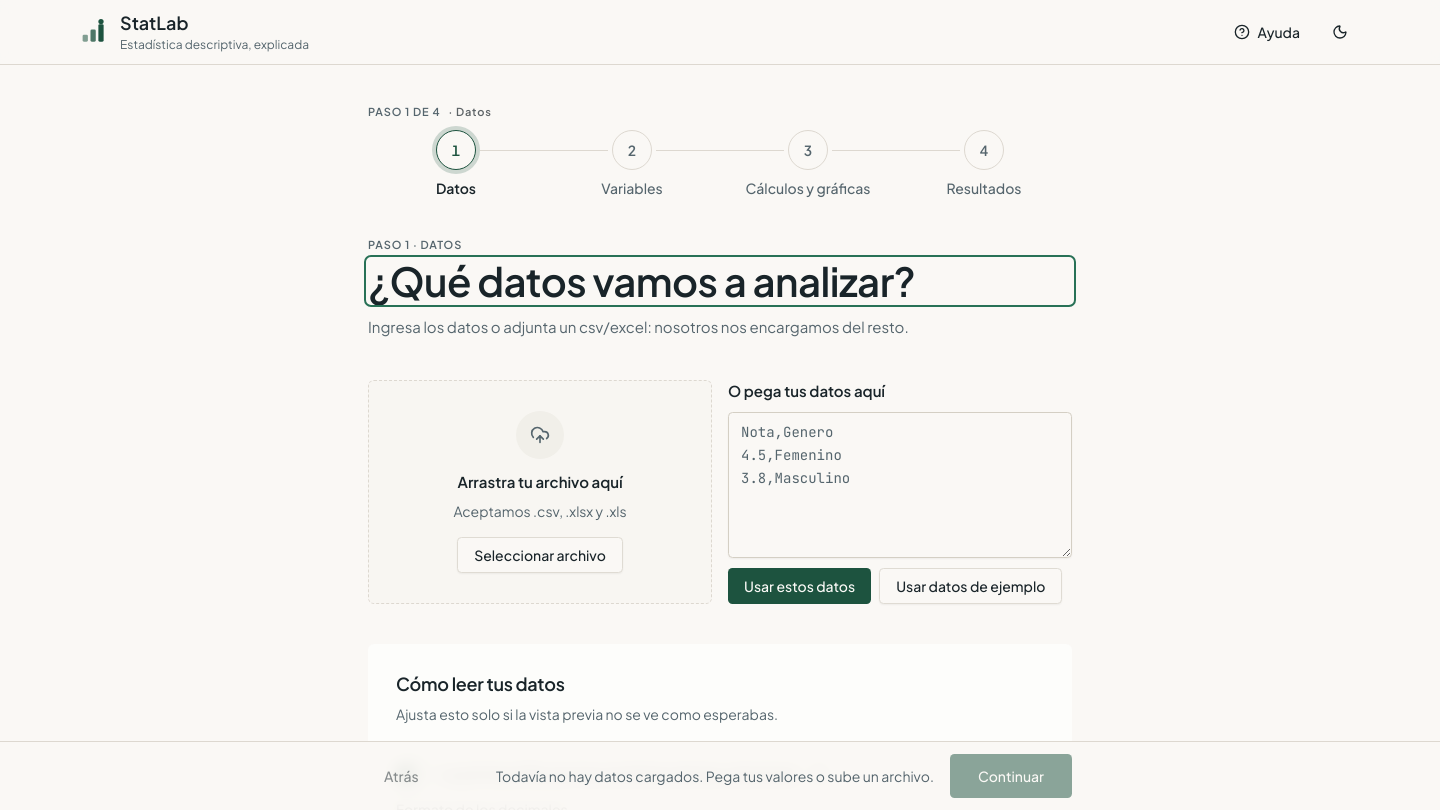
Test: Wizard (flujo completo) › vuelve al paso anterior sin perder lo configurado
The width and height of the screenshot is (1440, 810).
What coordinates should you click on to do the following:
click the button "Usar datos de ejemplo"
I would click on:
 (971, 586)
Its box is [879, 568, 1062, 604].
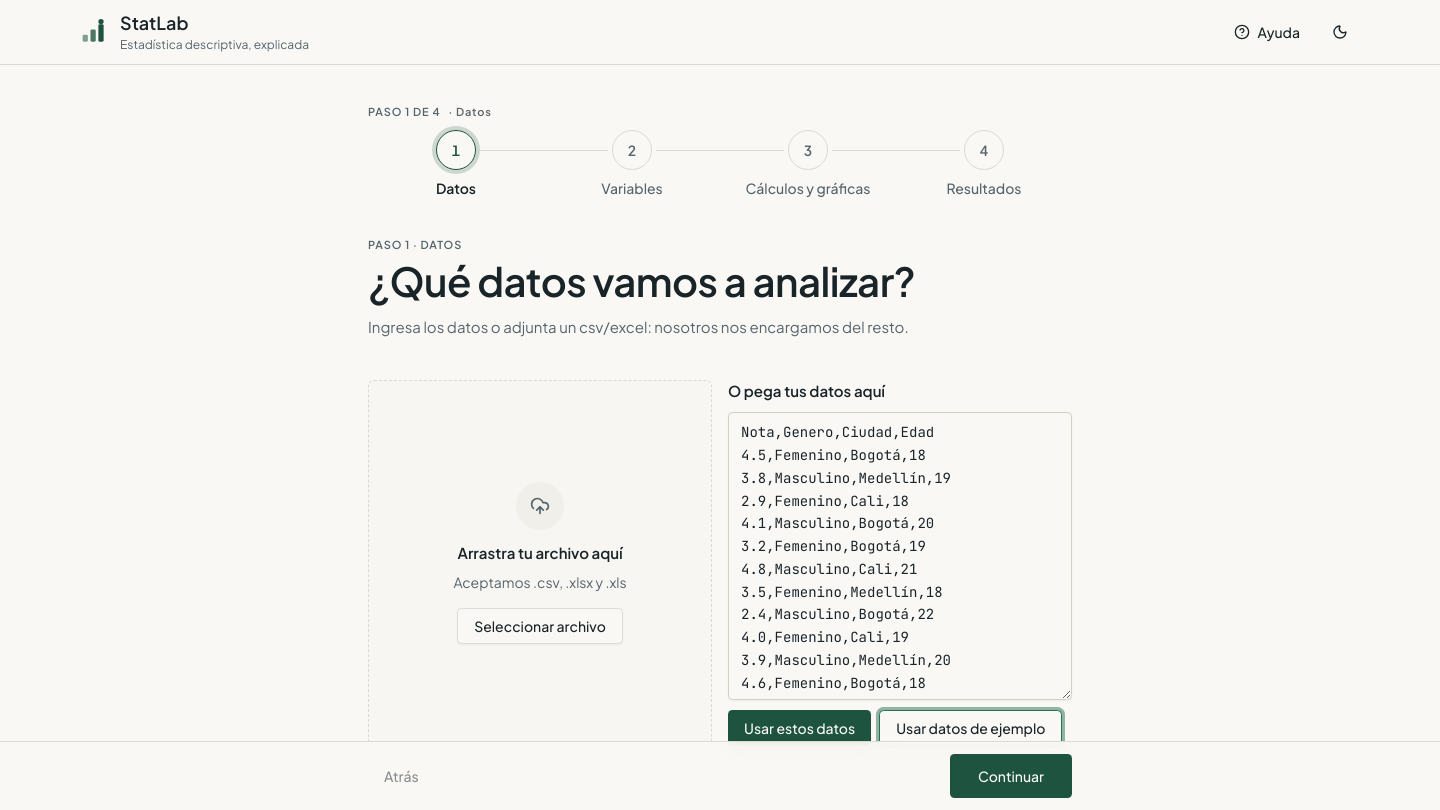
What coordinates should you click on to do the following:
click the button "Continuar"
I would click on:
 (1011, 776)
Its box is [950, 754, 1072, 798].
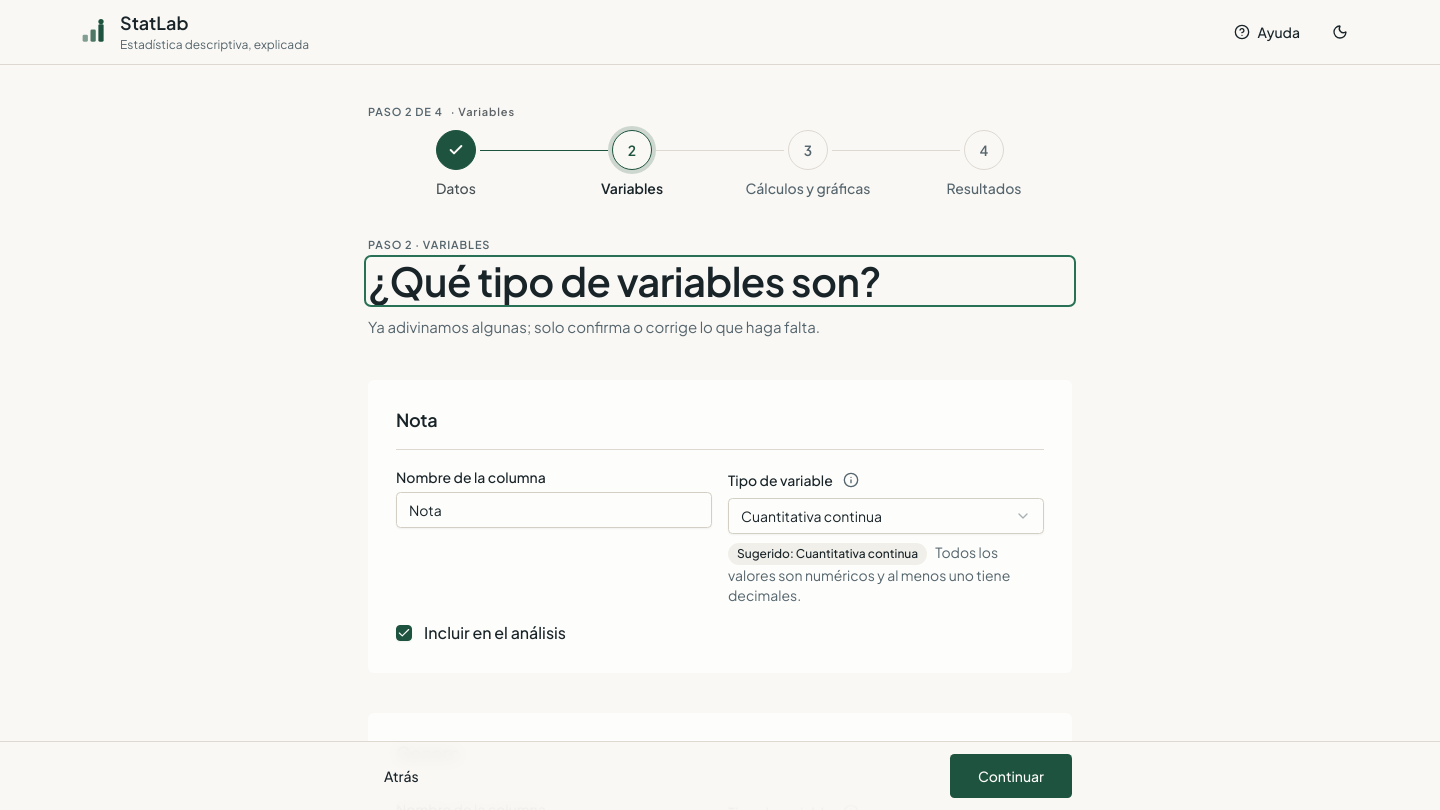
What coordinates should you click on to do the following:
click the button "Atrás"
I would click on:
 (401, 776)
Its box is [368, 754, 435, 798].
(page scrolled)
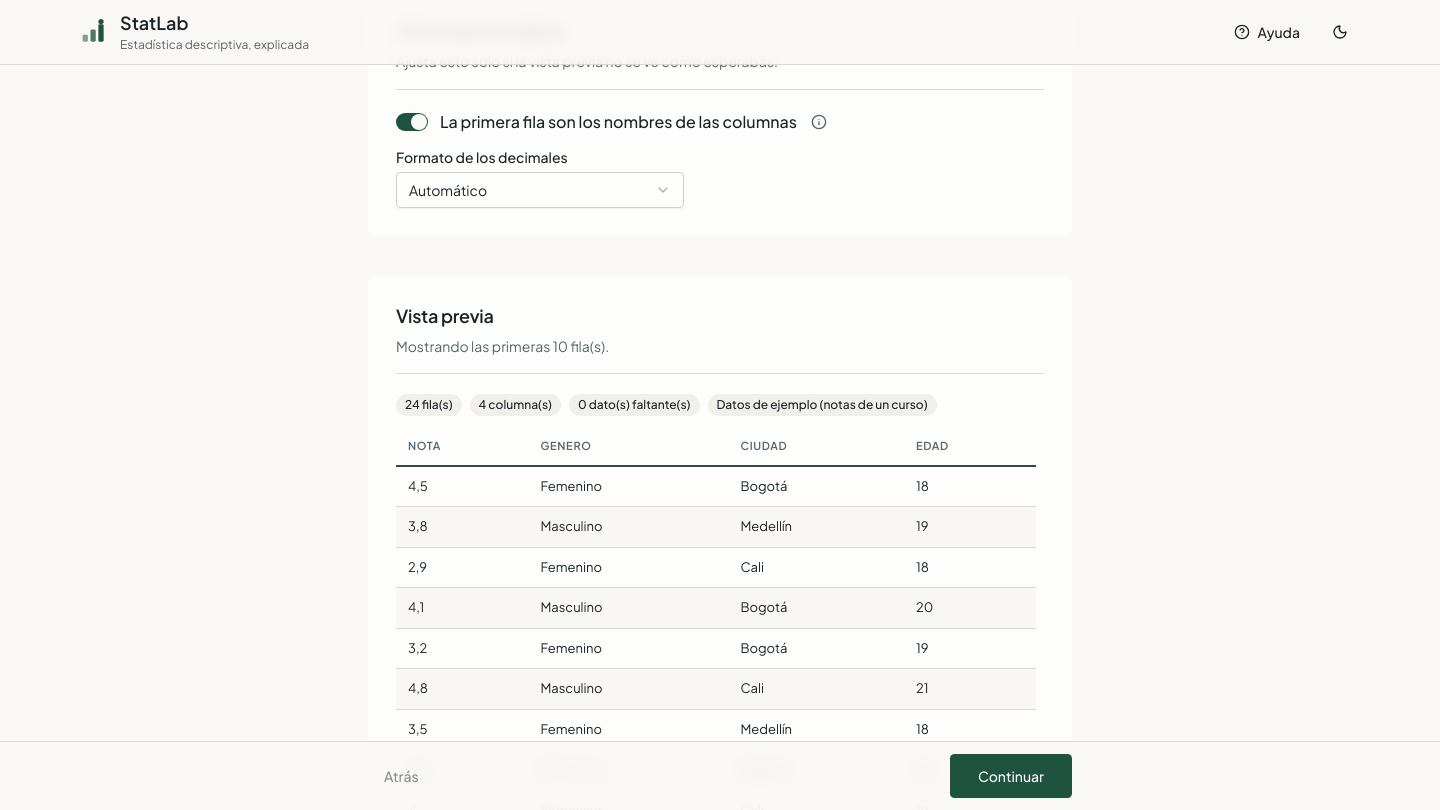
Result: the text "24 fila(s)" is shown at [396, 394, 462, 416]
